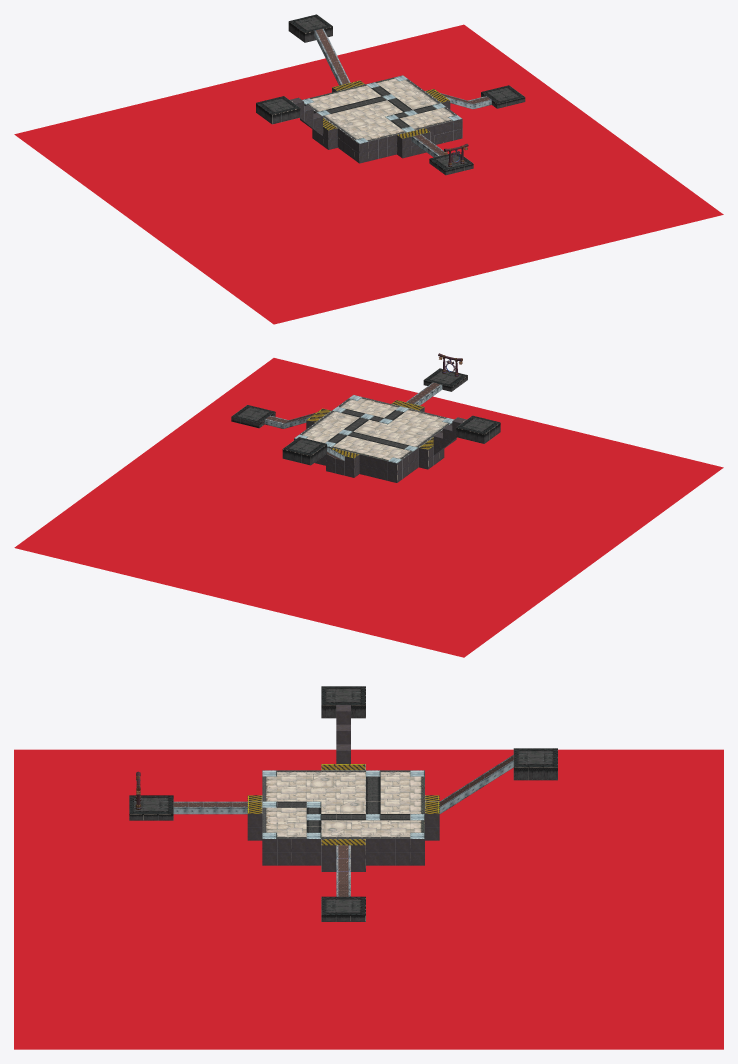
Rendered from test-zone2.glb.
3 renders of one model, top to bottom at view 1: azimuth 30°, elevation 25°; view 2: azimuth 150°, elevation 25°; view 3: azimuth 270°, elevation 25°, orthographic. The views are drawn at different scales.
Parts seen in each view (by area): view 1: DeathPlane, Frame_0.015; view 2: DeathPlane, Frame_0.015; view 3: DeathPlane, Frame_0.015.
Boxes of the visible parts, x1,y1,x2,y2 form: DeathPlane: (14, 24, 723, 324); Frame_0.015: (256, 14, 525, 175); DeathPlane: (14, 358, 723, 657); Frame_0.015: (231, 368, 500, 482); DeathPlane: (14, 749, 723, 1049); Frame_0.015: (129, 686, 557, 921).
Size of what is drawn, in the model's own units: 240 by 53.69 by 240.
Materials: 13 (12 with a texture image).
